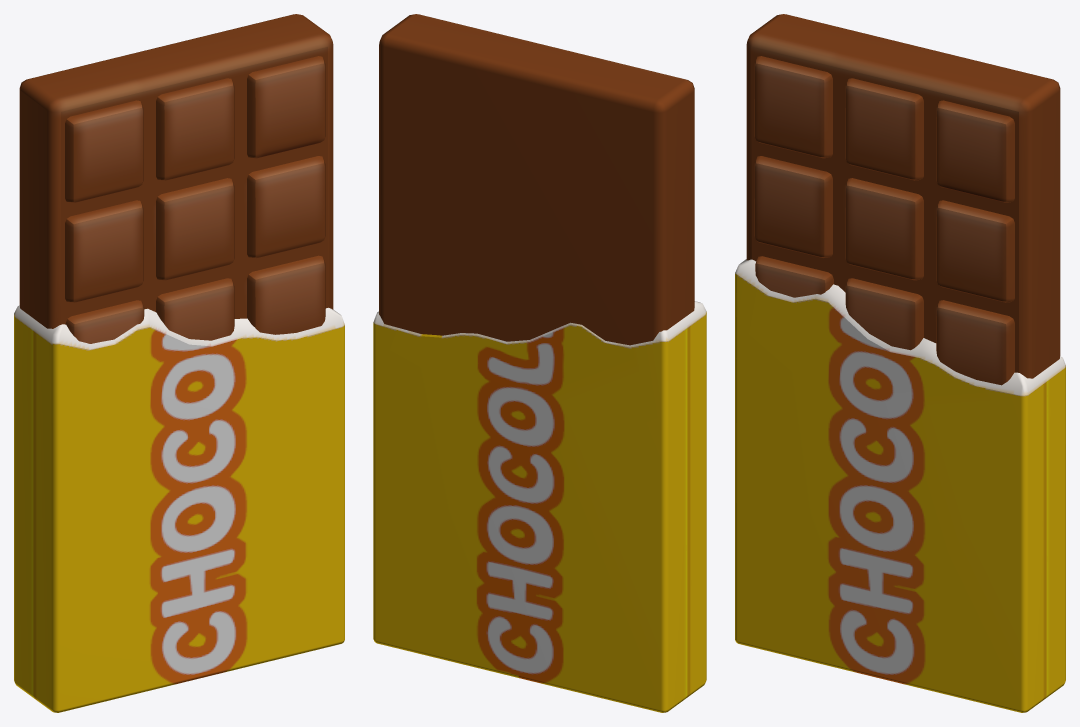
Rendered from chocolate_yellow.fbx.
3 renders of one model, left to right at view 1: azimuth 30°, elevation 25°; view 2: azimuth 150°, elevation 25°; view 3: azimuth 330°, elevation 25°, orthographic.
Visible parts, largest first — view 1: chocolate_yellow; view 2: chocolate_yellow; view 3: chocolate_yellow.
Part boxes in pixels (x1,y1,x2,y2): chocolate_yellow: (14,14,344,712); chocolate_yellow: (373,14,706,712); chocolate_yellow: (735,14,1065,712).
Bounding box in the file's own units: 0.4042 × 0.8 × 0.1027.
